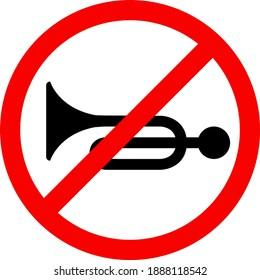Horn Prohibited: (11, 13, 247, 248)
